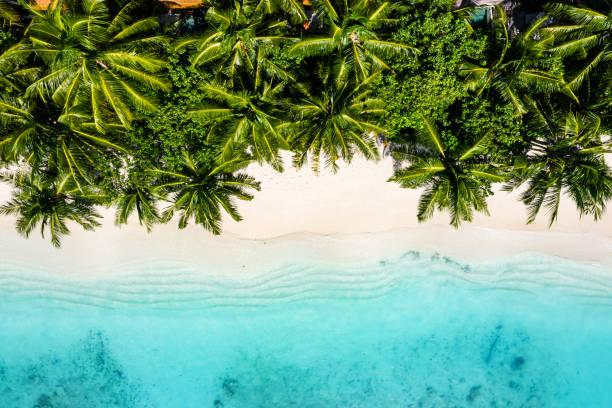coconut_tree: (37, 13, 171, 127), (185, 74, 303, 175), (405, 109, 508, 219), (3, 154, 133, 240), (151, 145, 258, 233), (285, 84, 391, 172), (305, 0, 403, 80)
